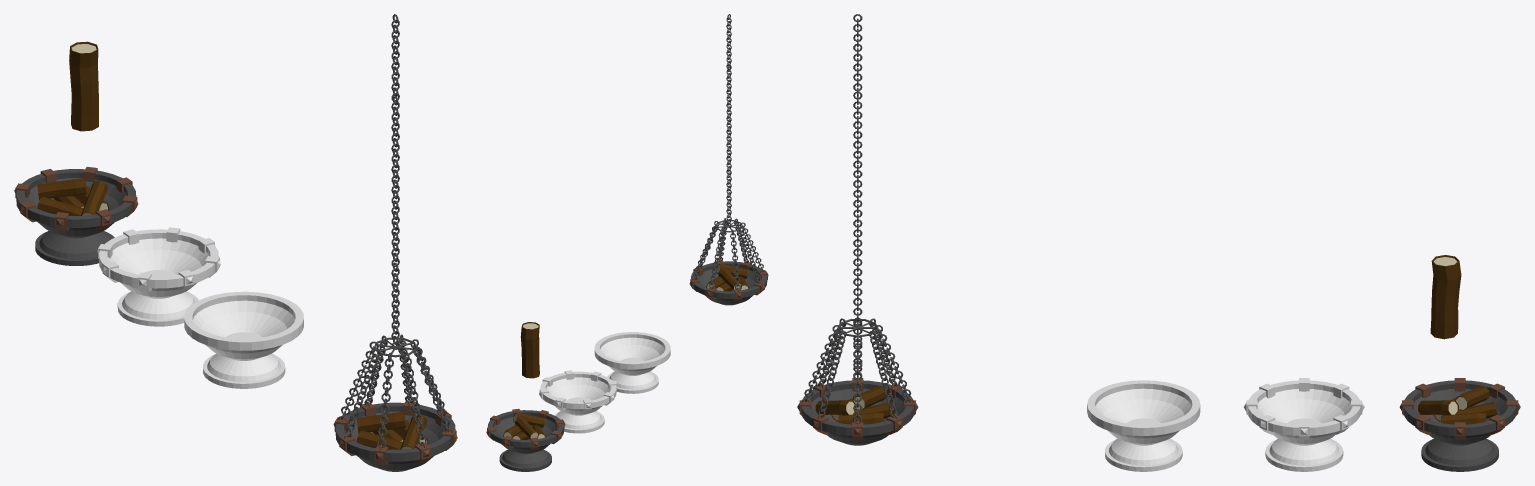
The model's file is BraziersV2.fbx.
The picture shows the model from 3 angles, left to right: view 1: azimuth 30°, elevation 25°; view 2: azimuth 150°, elevation 25°; view 3: azimuth 270°, elevation 25°; orthographic projection. The views are drawn at different scales.
Visible parts, largest first — view 1: Circle.001, Circle.002, Circle.003, Torus, Circle.009, Cylinder.001; view 2: Circle.003, Circle.002, Circle.001, Torus, Circle.009, Cylinder.001; view 3: Circle.003, Circle.002, Circle.001, Torus, Circle.009, Cylinder.001.
Boxes of the visible parts, box(x1,y1,x2,y2) form: Circle.001: box(184, 291, 303, 388); Circle.002: box(97, 227, 220, 326); Circle.003: box(14, 167, 138, 265); Torus: box(337, 14, 453, 450); Circle.009: box(333, 401, 457, 471); Cylinder.001: box(69, 41, 98, 131); Circle.003: box(486, 408, 565, 471); Circle.002: box(539, 370, 617, 433); Circle.001: box(594, 332, 670, 393); Torus: box(692, 14, 765, 291); Circle.009: box(689, 260, 768, 305); Cylinder.001: box(520, 322, 539, 378); Circle.003: box(1399, 378, 1520, 471); Circle.002: box(1244, 378, 1364, 471); Circle.001: box(1087, 380, 1200, 471); Torus: box(801, 14, 914, 426); Circle.009: box(797, 378, 918, 445); Cylinder.001: box(1430, 255, 1461, 339).
Size of the model in its own units: 417 by 1673 by 2485.
